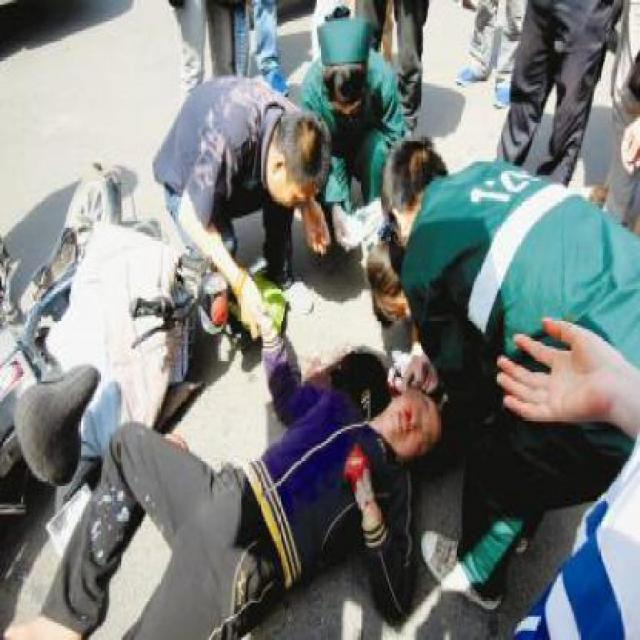fall: (1, 308, 450, 638)
